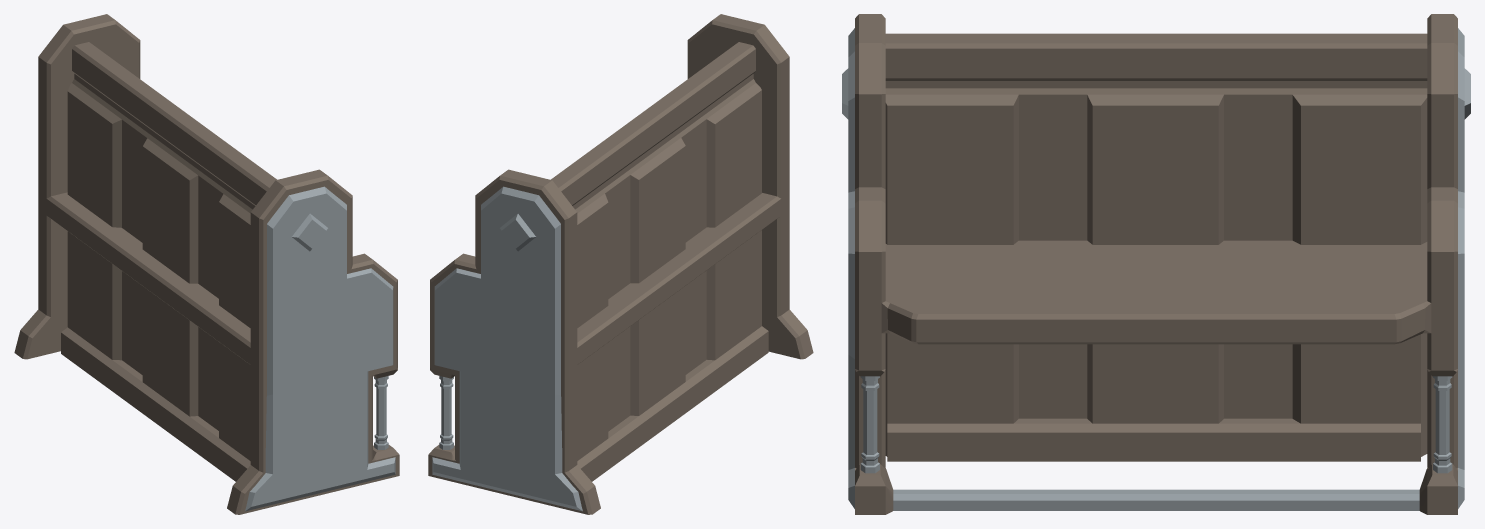
Rendered from Church_Bench.fbx.
3 renders of one model, left to right at view 1: azimuth 30°, elevation 25°; view 2: azimuth 150°, elevation 25°; view 3: azimuth 270°, elevation 25°, orthographic. The views are drawn at different scales.
Visible parts, largest first — view 1: pCube9, polySurface5, polySurface1, polySurface7, polySurface6; view 2: pCube9, polySurface2, polySurface1, polySurface4, polySurface3; view 3: pCube9, polySurface1, polySurface2, polySurface5, polySurface4, polySurface7.
Part boxes in pixels (box(x1,y1,x2,y2)): pCube9: box(61, 42, 276, 481); polySurface5: box(245, 186, 395, 511); polySurface1: box(14, 14, 399, 514); polySurface7: box(374, 376, 388, 449); polySurface6: box(292, 213, 327, 251); pCube9: box(551, 42, 768, 481); polySurface2: box(432, 186, 582, 511); polySurface1: box(428, 14, 813, 514); polySurface4: box(439, 376, 453, 449); polySurface3: box(500, 213, 535, 251); pCube9: box(885, 33, 1427, 461); polySurface1: box(855, 14, 1457, 514); polySurface2: box(1458, 28, 1464, 508); polySurface5: box(848, 28, 854, 508); polySurface4: box(1433, 376, 1452, 473); polySurface7: box(860, 376, 879, 473).
Bounding box in the file's own units: 0.9195 × 1.53 × 2.04.
